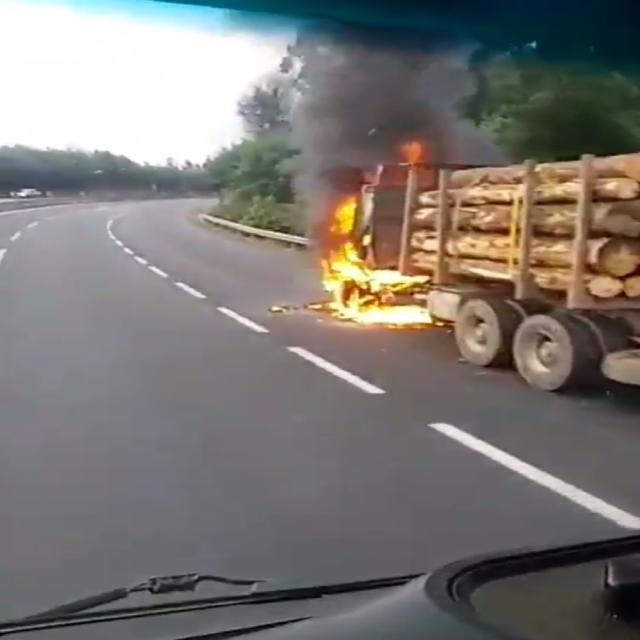Fire: (316, 194, 436, 326), (401, 140, 423, 165)
Smoke: (220, 9, 518, 264)
